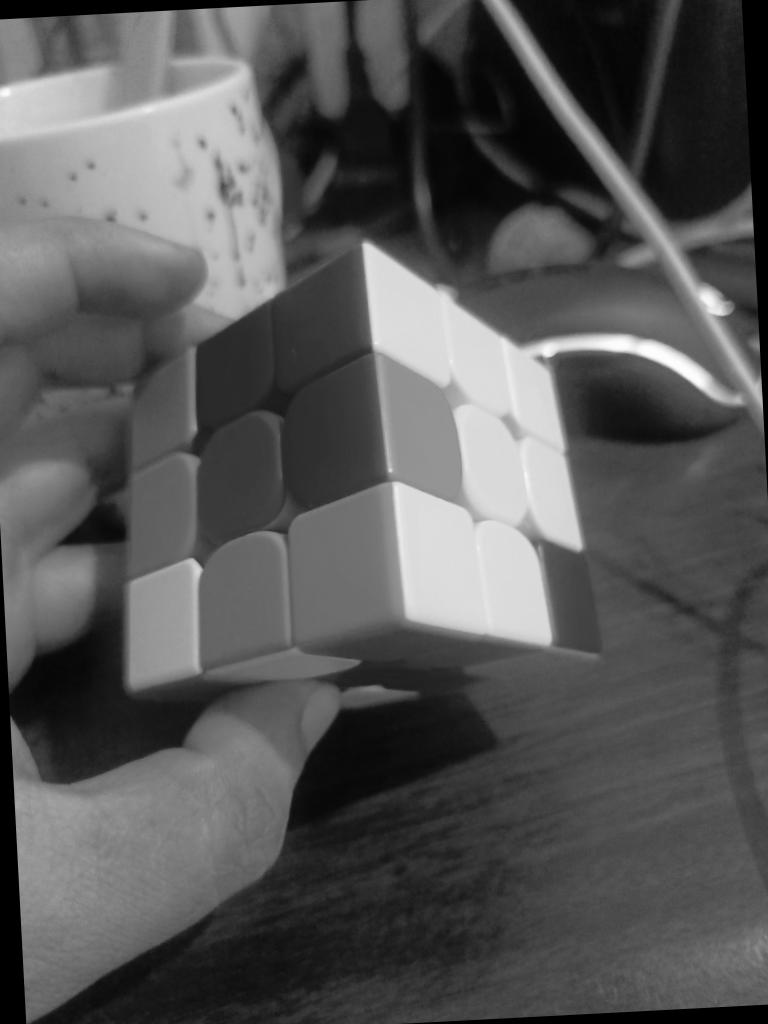rubik: (100, 226, 605, 708)
